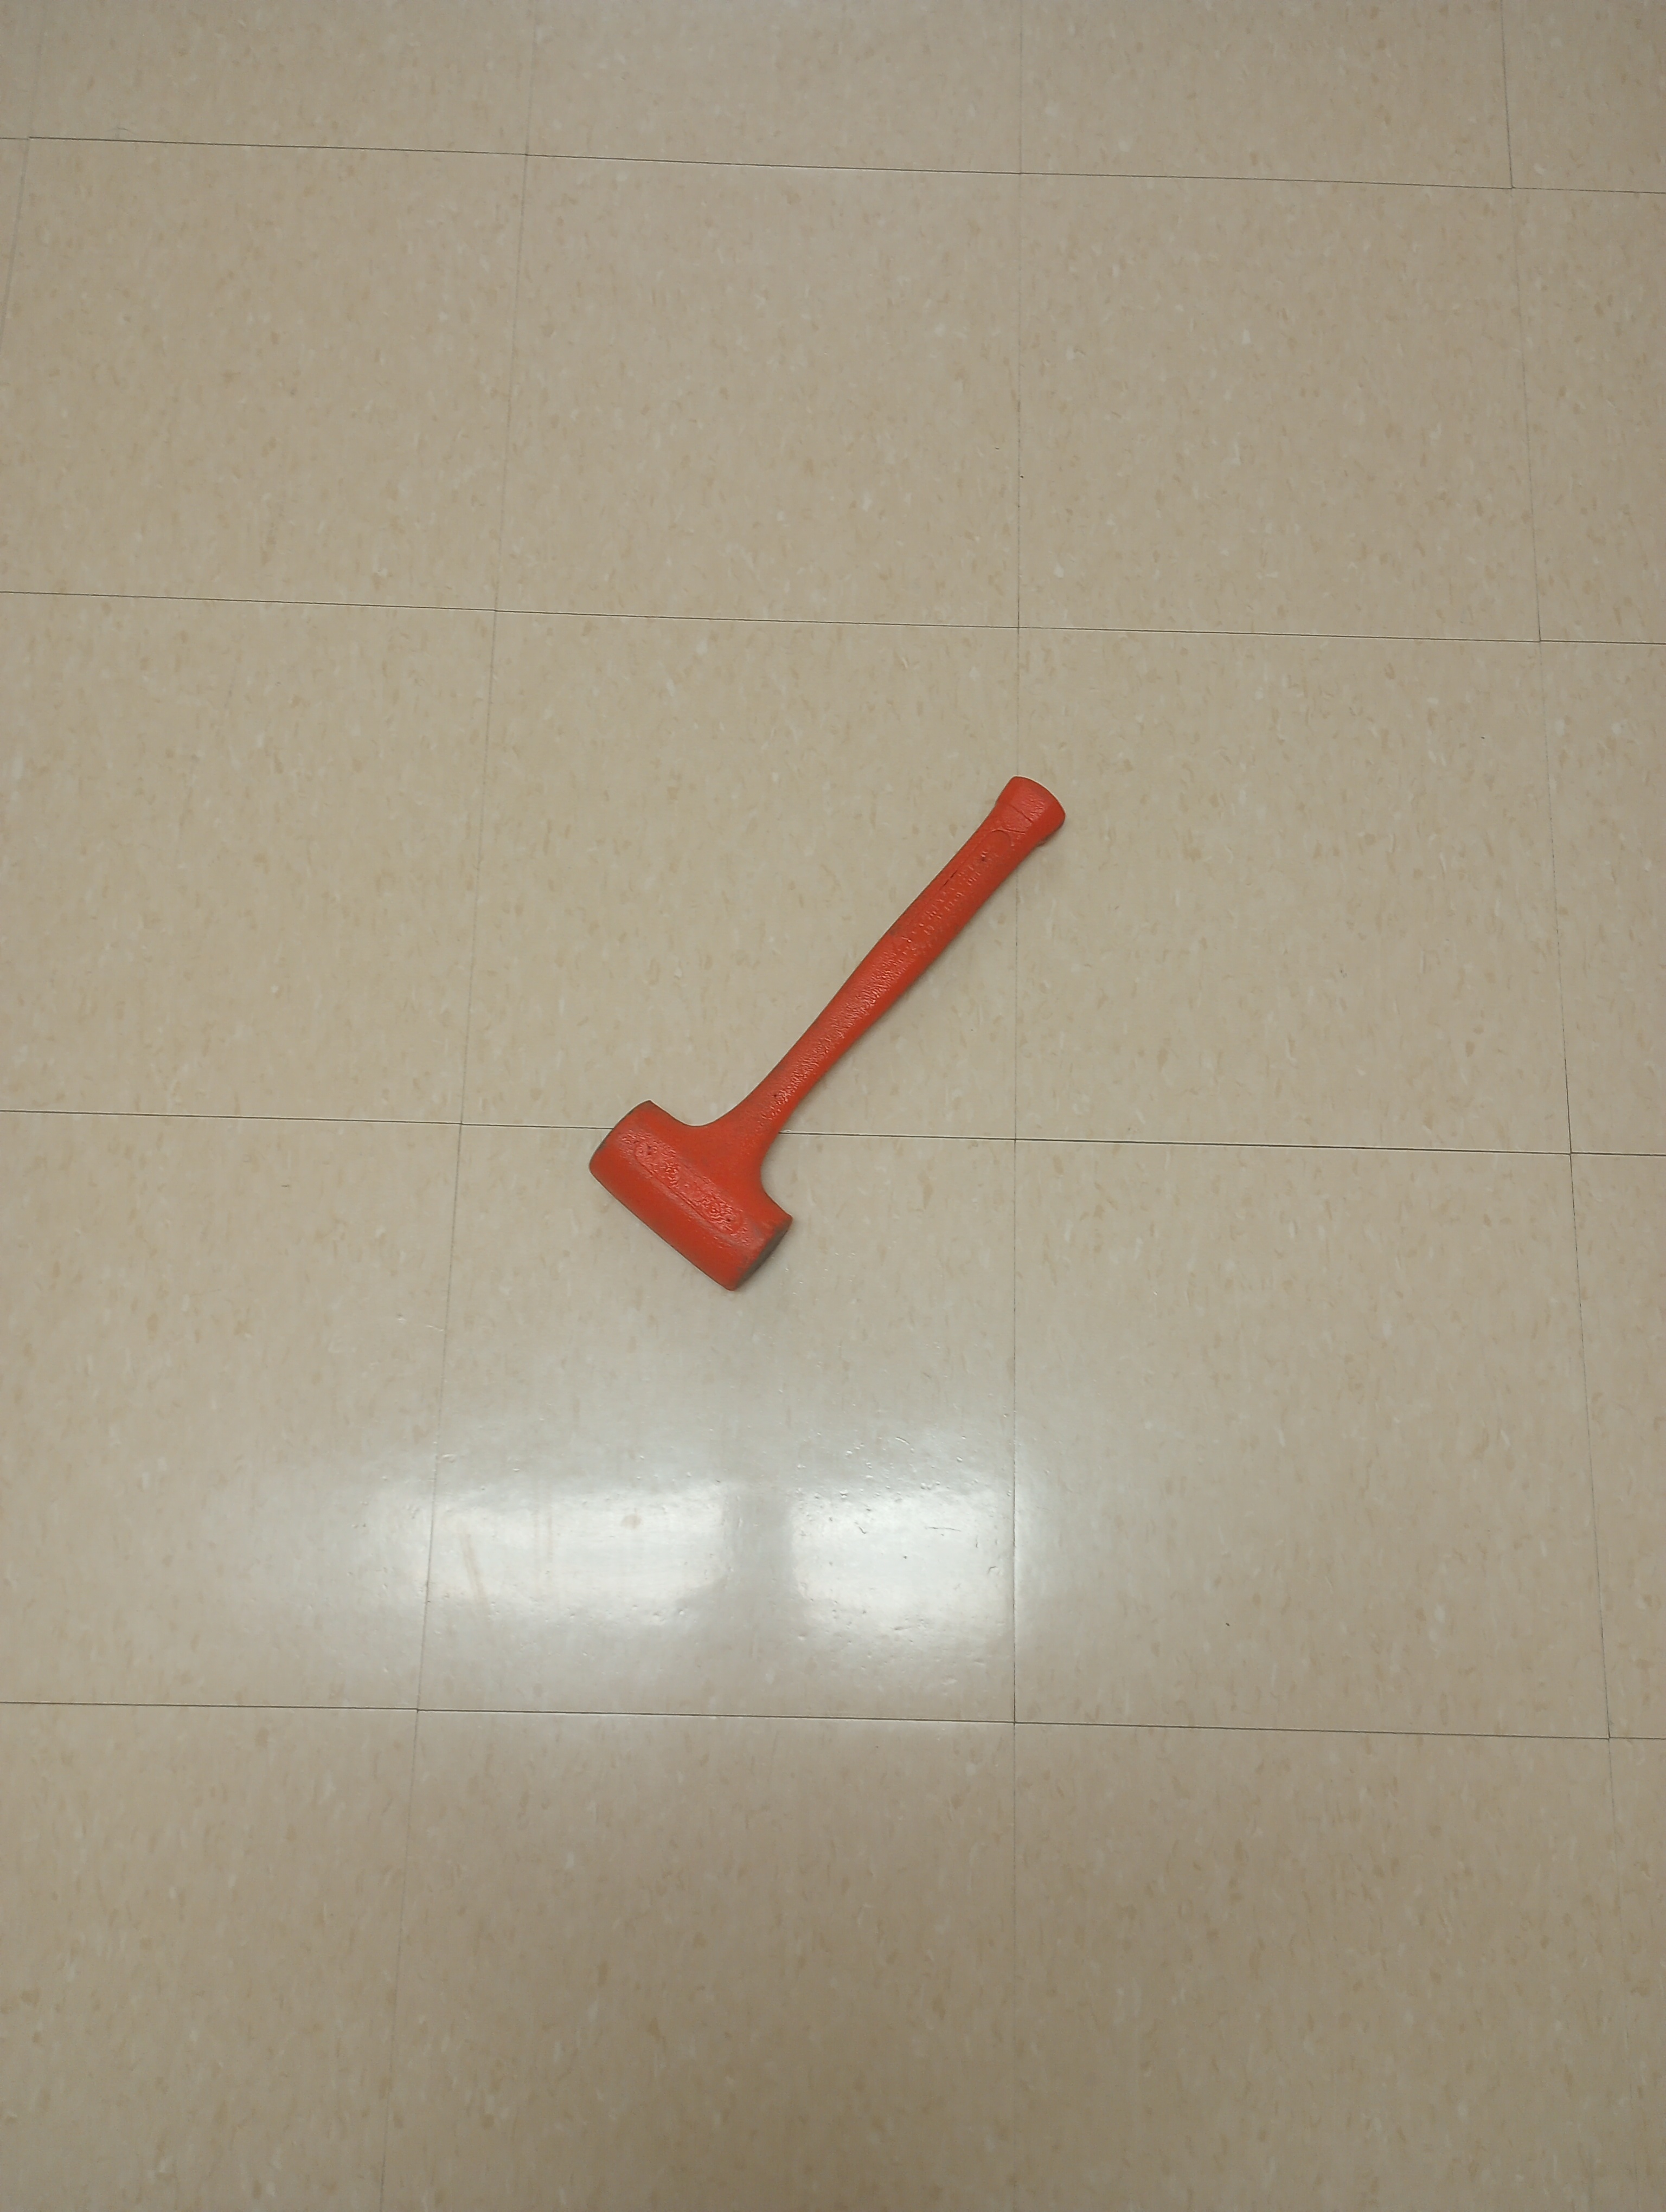bottle: (585, 762, 1071, 1303)
